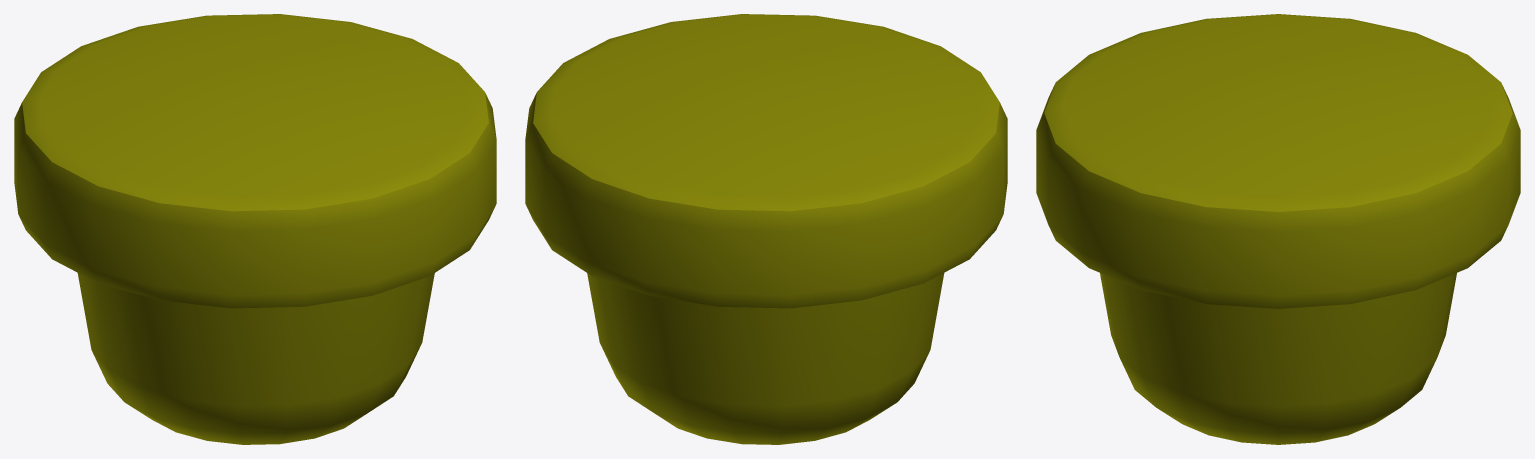
File: Corken.fbx
The picture shows the model from 3 angles, left to right: view 1: azimuth 30°, elevation 25°; view 2: azimuth 150°, elevation 25°; view 3: azimuth 270°, elevation 25°; orthographic projection.
Visible parts, largest first — view 1: pCylinder22; view 2: pCylinder22; view 3: pCylinder22.
Part boxes in pixels (x1=…): pCylinder22: x1=14, y1=14, x2=496, y2=444; pCylinder22: x1=525, y1=14, x2=1007, y2=444; pCylinder22: x1=1036, y1=14, x2=1520, y2=444.
Bounding box in the file's own units: 0.2407 × 0.1709 × 0.2407.
